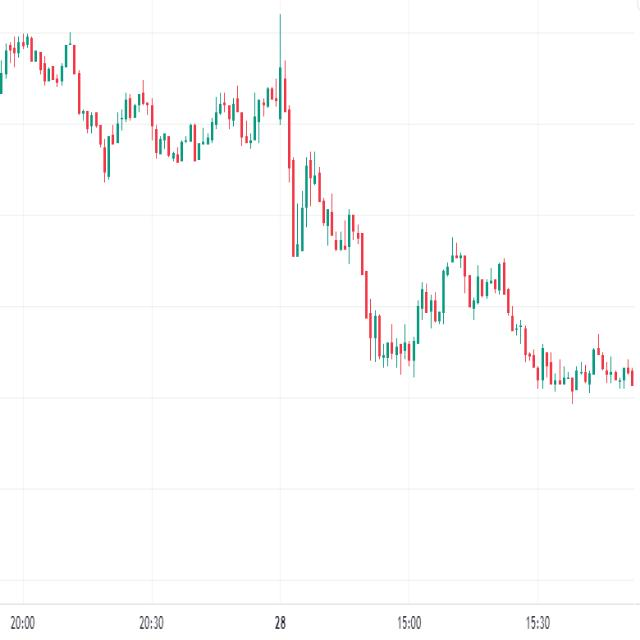Cup-and-handle: (136, 70, 269, 177), (355, 254, 453, 374)
